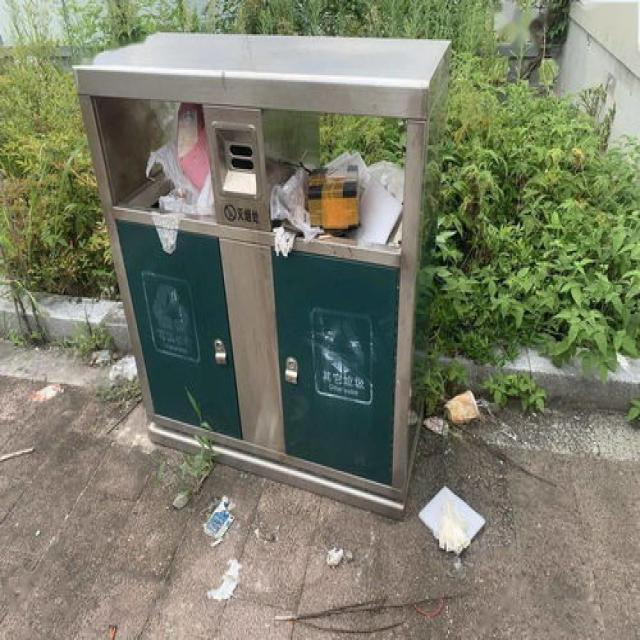garbage: (417, 386, 484, 553)
overflow: (70, 29, 450, 522)
